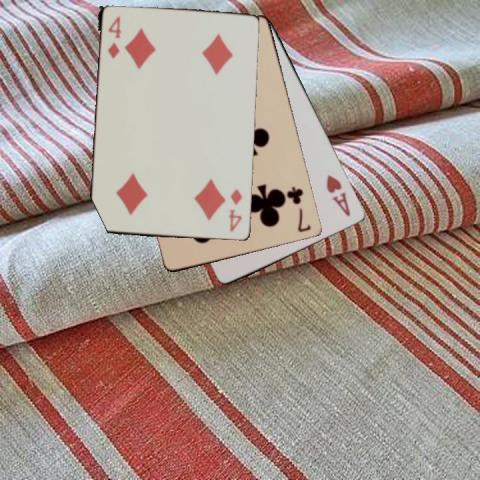4d: (226, 186, 244, 234), (105, 13, 122, 60)
7c: (285, 184, 313, 234)
Ah: (323, 171, 353, 218)
